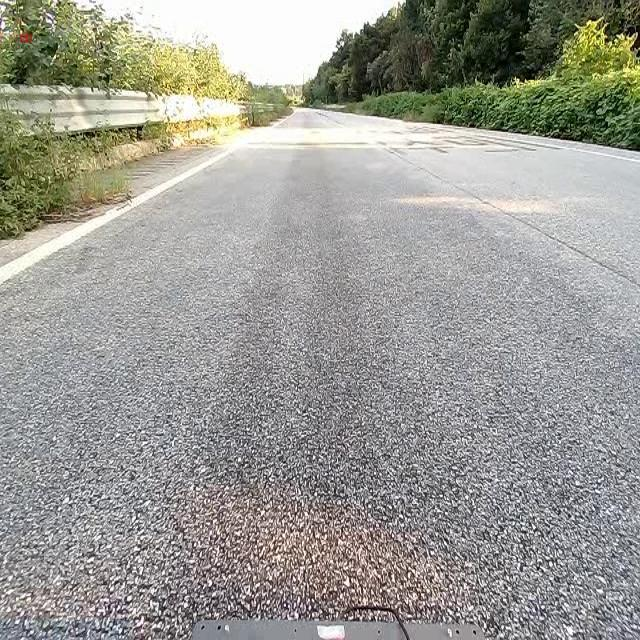Lane: (0, 136, 244, 298), (0, 143, 241, 286)
